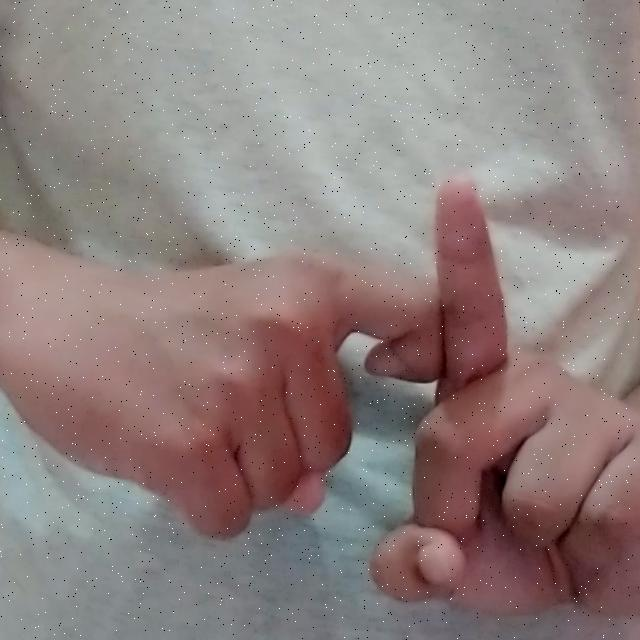K: (58, 165, 624, 627)
